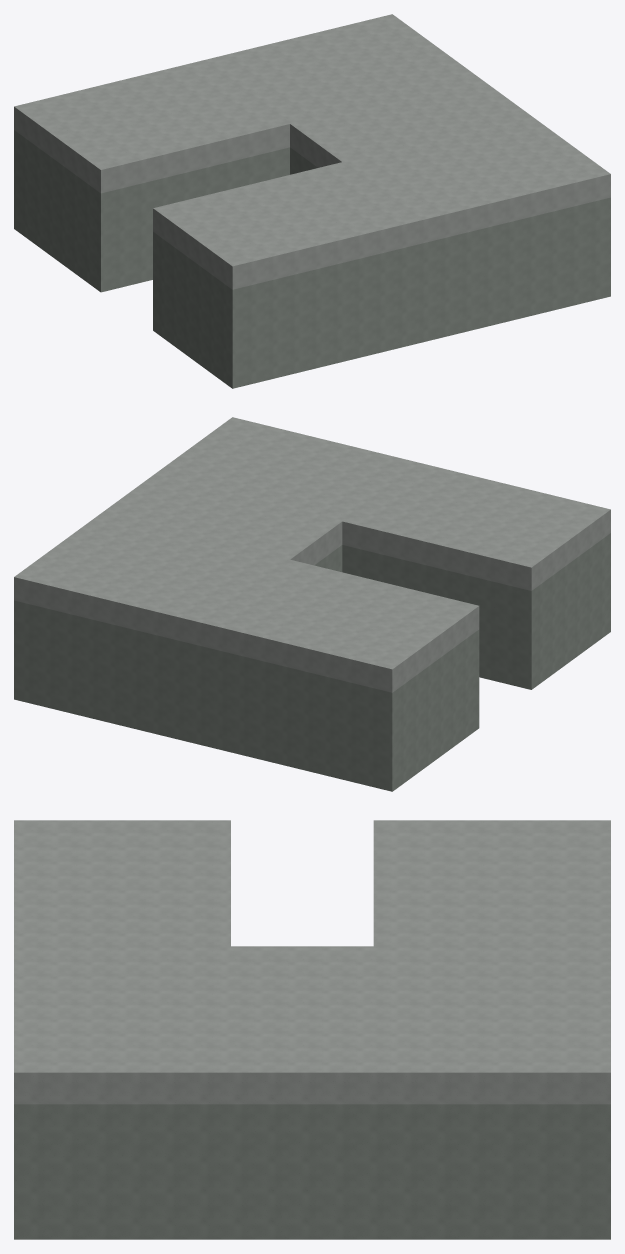
File: gorgehold-survivor-gallery-and-operations-broken-road--bab43b86__32898.glb
3 renders of one model, top to bottom at view 1: azimuth 30°, elevation 25°; view 2: azimuth 150°, elevation 25°; view 3: azimuth 270°, elevation 25°, orthographic. The views are drawn at different scales.
Visible parts, largest first — view 1: broken-road-stair-recess-configuration; view 2: broken-road-stair-recess-configuration; view 3: broken-road-stair-recess-configuration.
Part boxes in pixels (box(x1,y1,x2,y2)): broken-road-stair-recess-configuration: box(14, 14, 610, 388); broken-road-stair-recess-configuration: box(14, 417, 610, 791); broken-road-stair-recess-configuration: box(14, 820, 610, 1239).
Size of the model in its own units: 8.8 by 2.72 by 8.8.
Materials: 2 (2 with a texture image).
